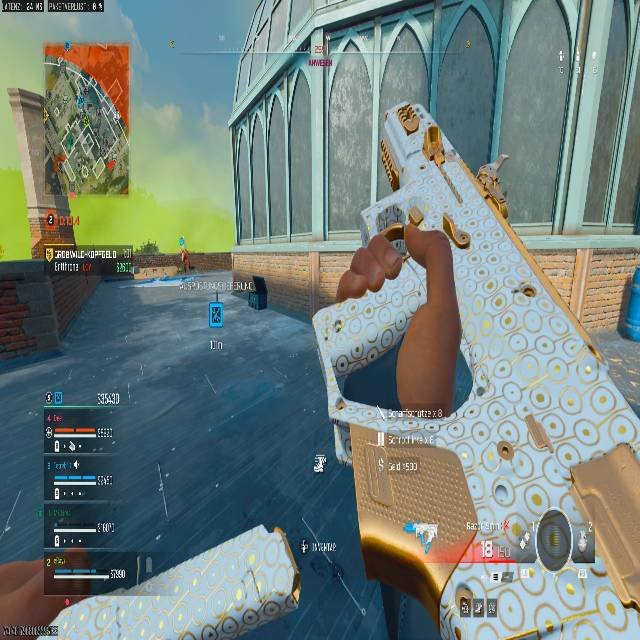player: (313, 100, 471, 461), (178, 246, 191, 272)
